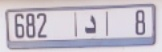2: (36, 11, 48, 39)
6: (13, 13, 25, 40)
8: (131, 9, 148, 36), (25, 12, 35, 39)
d: (83, 12, 98, 34)
